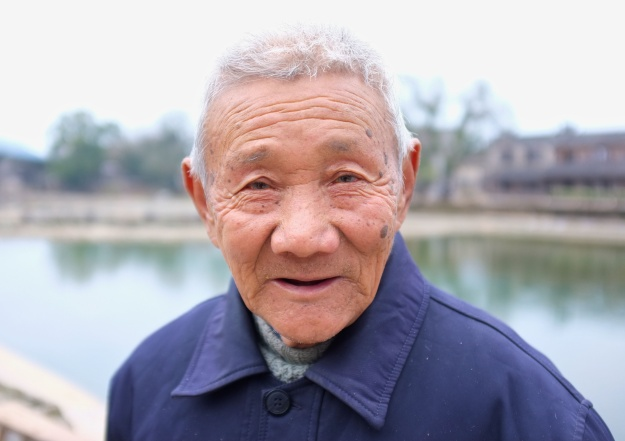Forehead: (213, 85, 379, 152)
